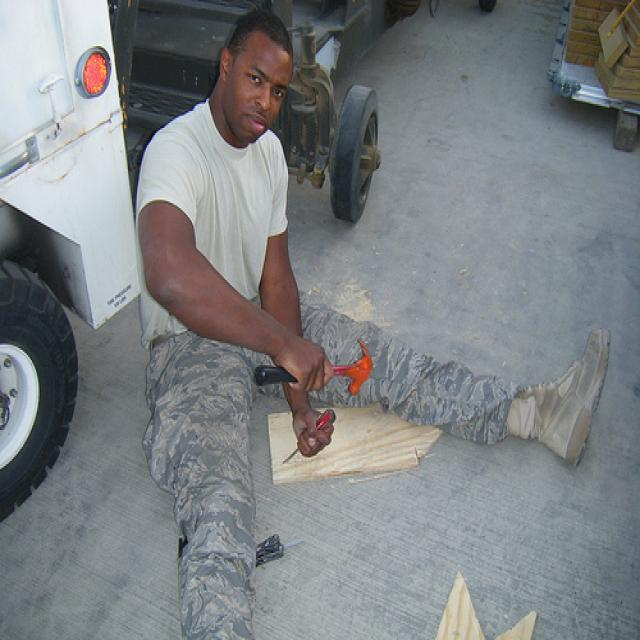hammer: (238, 328, 380, 401)
screwdriver: (267, 406, 347, 480)
